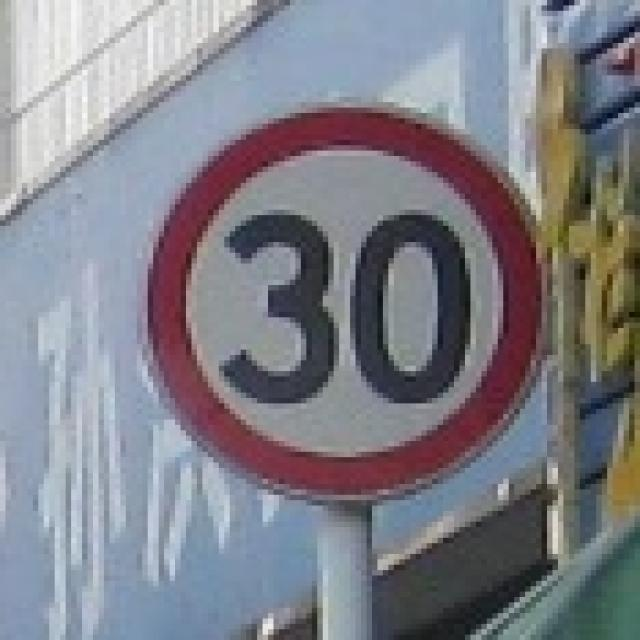Speed Limit -30-: (218, 208, 478, 412)
